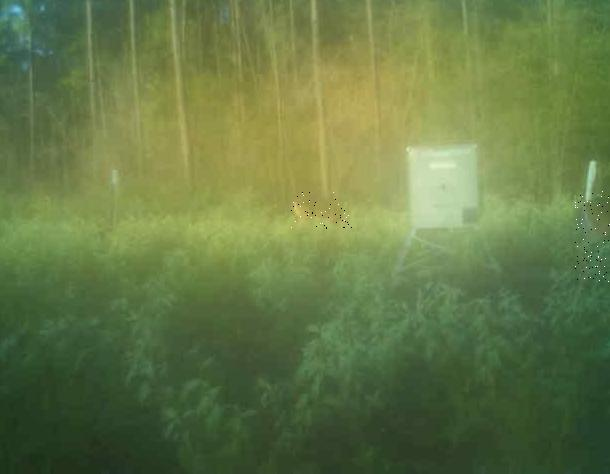Deer: (575, 190, 610, 283), (291, 192, 352, 229)
